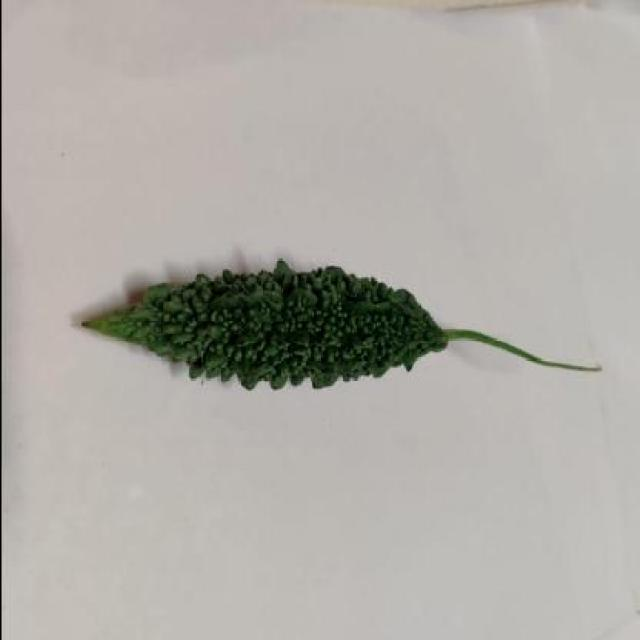Bitter melon: (59, 257, 572, 406)
